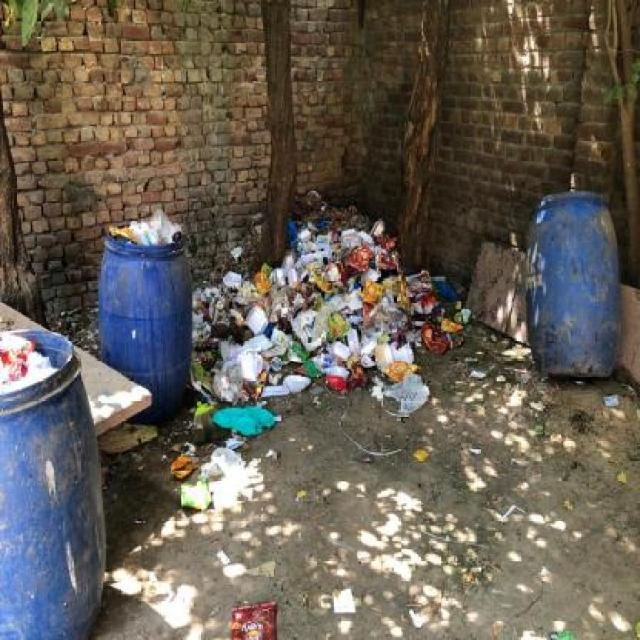garbage: (1, 80, 456, 374), (5, 376, 309, 640), (507, 203, 640, 440)
